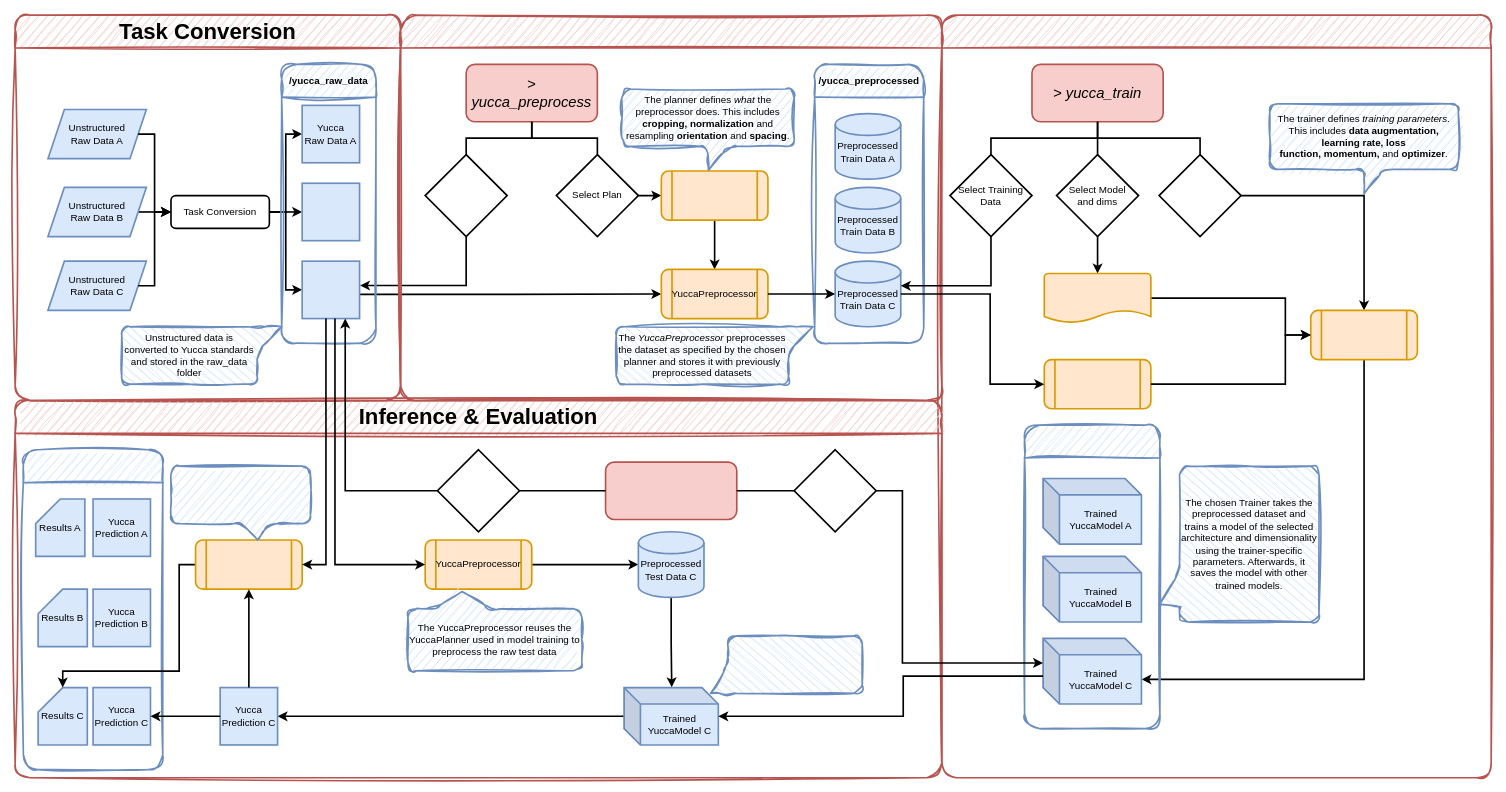
The diagram is 1506 pixels wide and 792 high, and some of its shapes have lost their labels. The shapes that lost their labels are listed below. From the top down, each one's box as (x1, y1, x2, y2) in pixels, then its label:
(301, 182, 360, 241): Yucca Raw Data B
(424, 153, 508, 237): Select Raw Data
(399, 14, 942, 401): Preprocessing
(660, 170, 768, 221): YuccaPlanner
(1158, 153, 1241, 237): Select Trainer
(301, 260, 360, 319): Yucca Raw Data C
(1043, 272, 1151, 323): 3D U-Net
(1310, 309, 1418, 360): YuccaTrainer
(1043, 358, 1151, 409): YuccaLoader
(941, 14, 1492, 778): Model Training
(170, 465, 311, 540): The YuccaEvaluator evaluates the predictions against the labels
(436, 449, 520, 532): Select Testing Data
(604, 461, 737, 520): > yucca_inference
(793, 449, 877, 532): Select Model
(194, 539, 303, 590): YuccaEvaluator
(1023, 424, 1160, 729): /yucca_models
(22, 449, 163, 770): /yucca_results
(709, 635, 863, 694): Segment the preprocessed data using the selected YuccaModel
